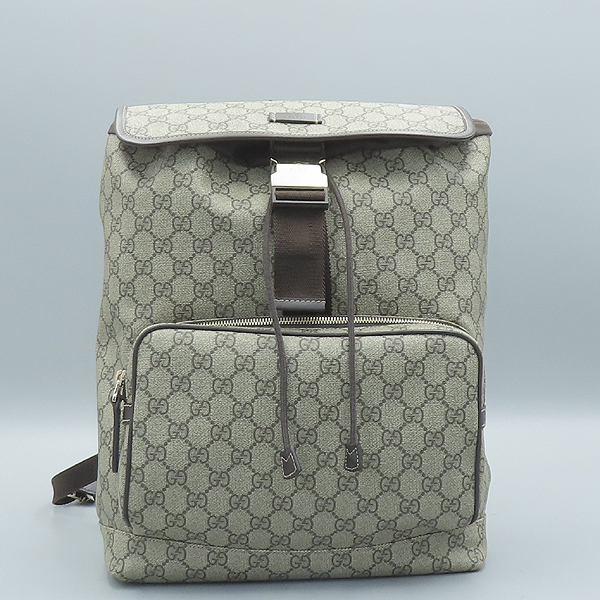Gucci: (72, 89, 497, 596), (150, 400, 431, 549)
